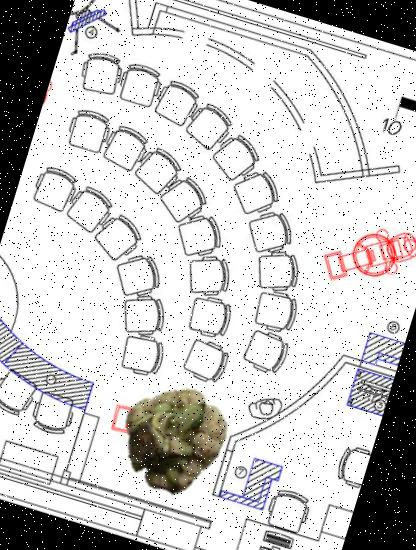Cauliflower: (111, 373, 246, 508)
